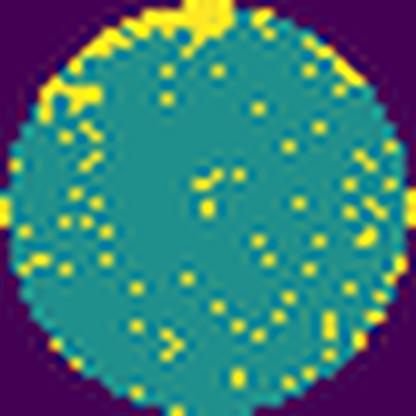Edge-Loc: (65, 0, 240, 79), (28, 72, 102, 127)
